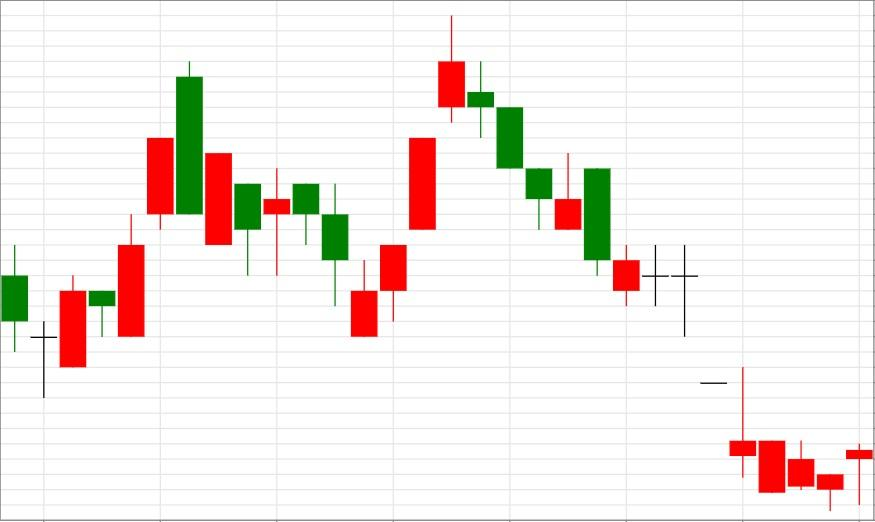three_white_soldiers_rise: (262, 136, 437, 338)
